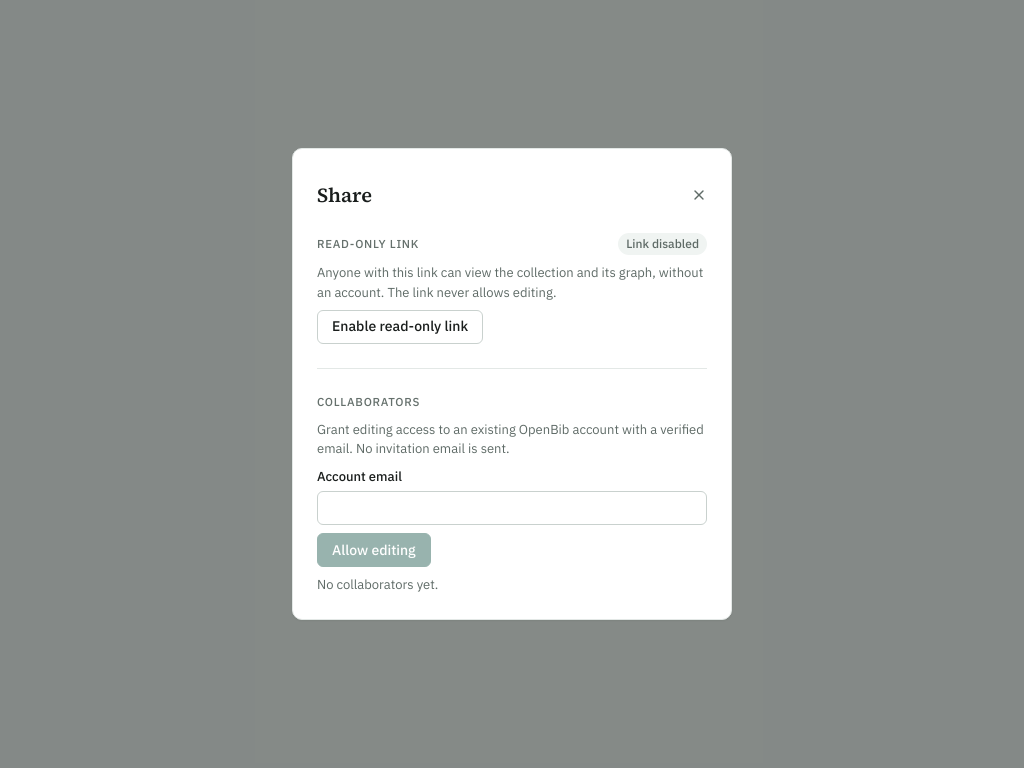
Test: Collection sharing › shows unavailable-account errors without closing the form
Expected: the text "Link disabled" is shown, [618,233,707,255]
Type "missing@example.com" into the field labelled "Account email" at (512, 508), box [317,491,707,525]
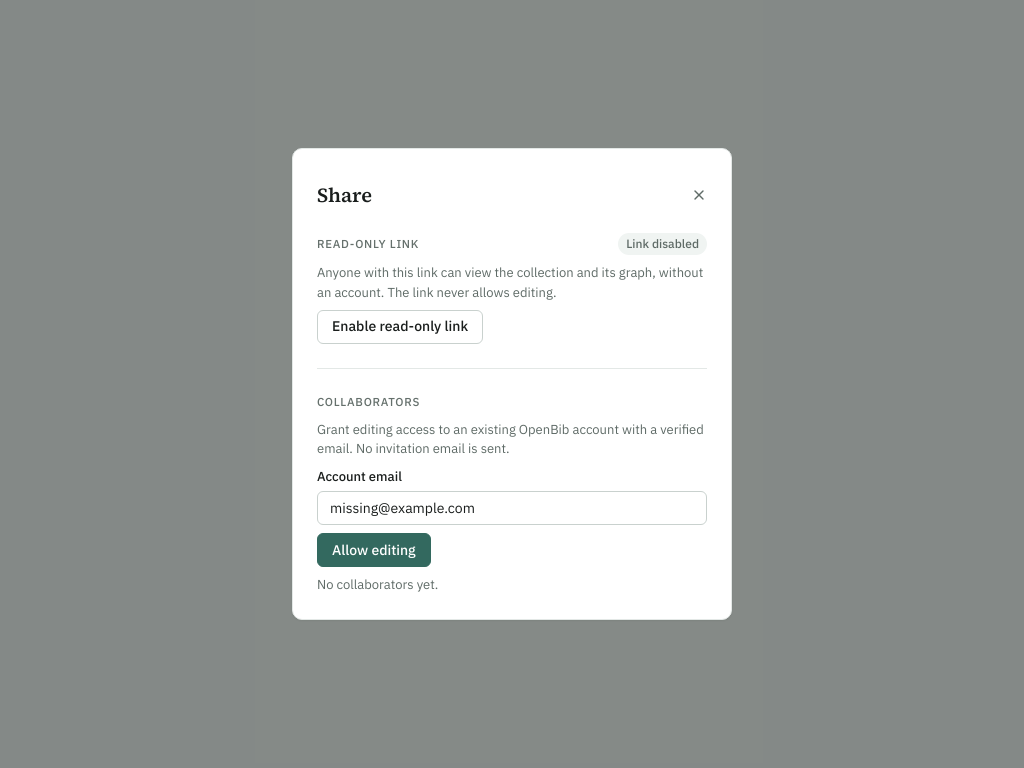
Click the button "Allow editing" at (374, 550), box [317,533,431,567]
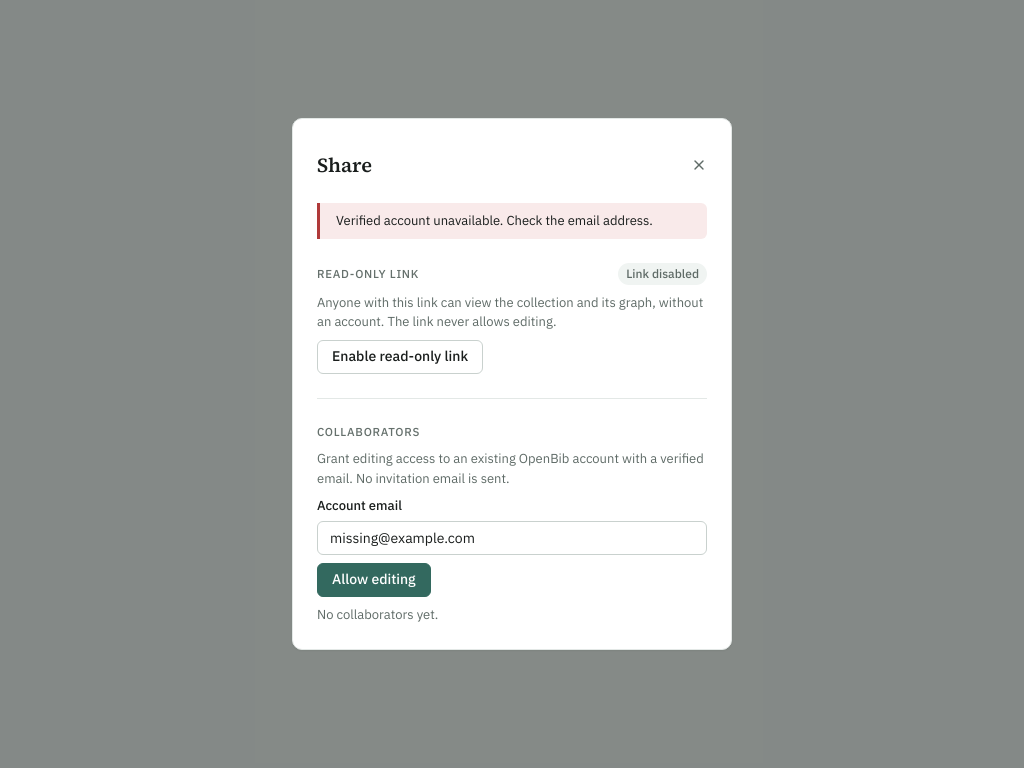
Expected: the message shows "Verified account unavailable", [336,212,653,229]
